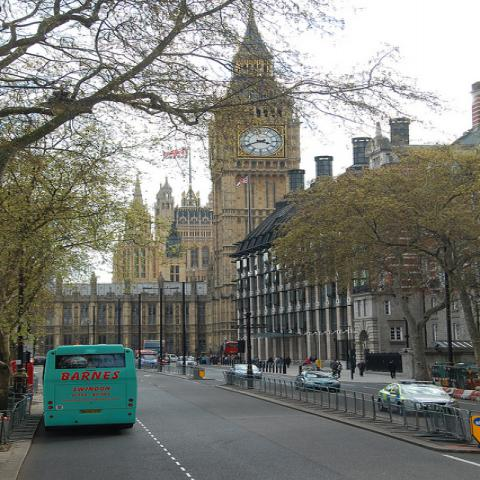bus: (42, 344, 138, 431), (143, 340, 166, 365), (134, 350, 158, 366)
car: (378, 380, 460, 409), (294, 371, 344, 392), (229, 364, 263, 376), (175, 356, 198, 366), (165, 354, 179, 363)
